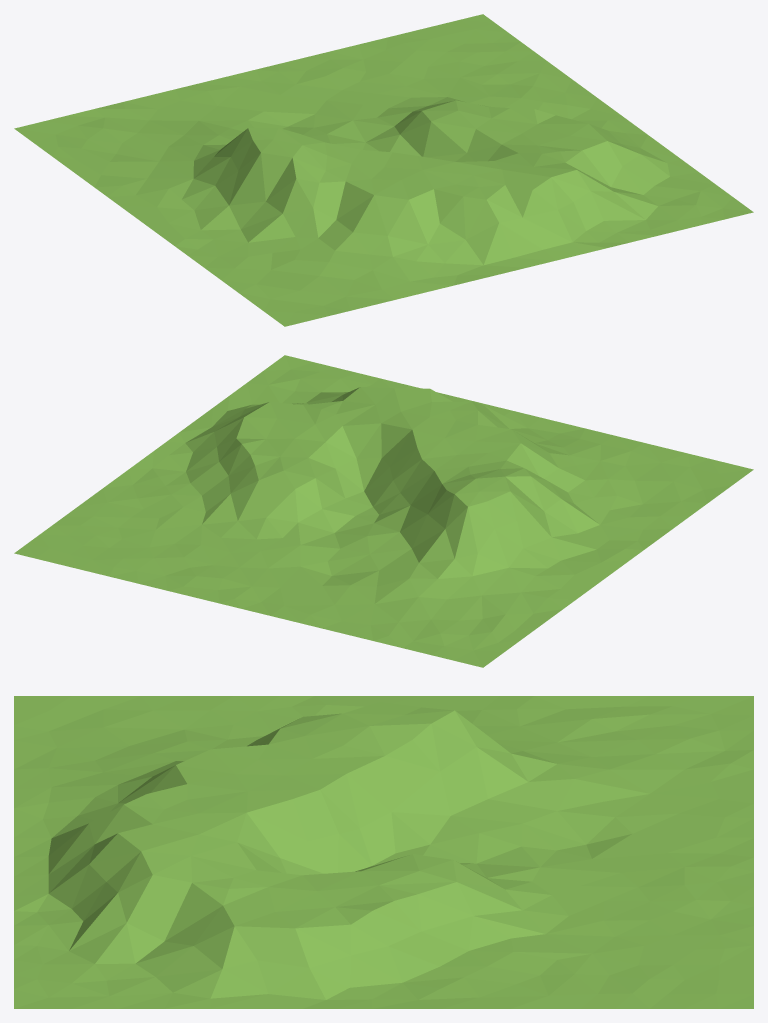
File: MT_Terrain_M_c_19_LOD.fbx
3 views of the same model, one above another, from view 1: azimuth 30°, elevation 25°; view 2: azimuth 150°, elevation 25°; view 3: azimuth 270°, elevation 25° (orthographic). The views are drawn at different scales.
Parts seen in each view (by area): view 1: MT_Terrain_M_c_19_LOD0; view 2: MT_Terrain_M_c_19_LOD0; view 3: MT_Terrain_M_c_19_LOD0.
Part boxes in pixels (x1,y1,x2,y2): MT_Terrain_M_c_19_LOD0: (14, 14, 753, 326); MT_Terrain_M_c_19_LOD0: (14, 355, 753, 667); MT_Terrain_M_c_19_LOD0: (14, 696, 753, 1008).
Size of what is drawn, in the model's own units: 5000 by 574 by 5000.
